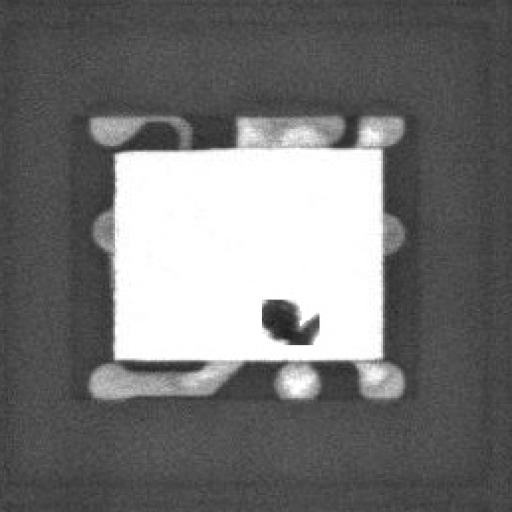DIE_INK: (248, 312, 302, 357)
